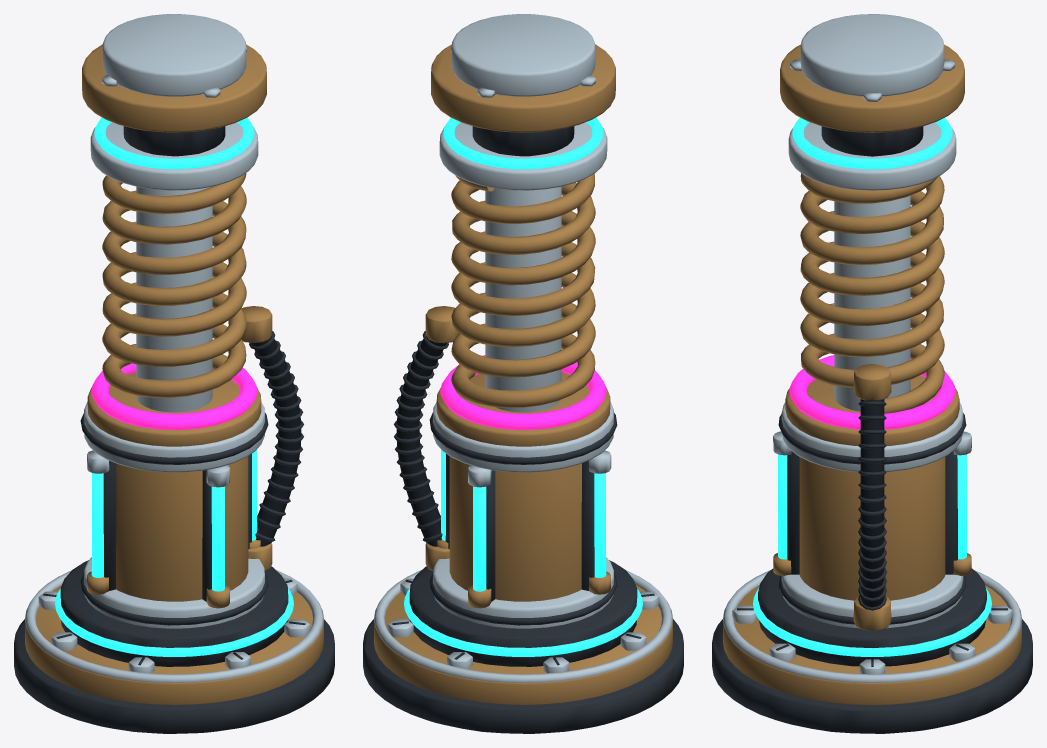
The model's file is mechanism.glb.
3 renders of one model, left to right at view 1: azimuth 30°, elevation 25°; view 2: azimuth 150°, elevation 25°; view 3: azimuth 270°, elevation 25°, orthographic.
Parts seen in each view (by area): view 1: Brushed champagne bronze, Polished tool steel, Black anodised housing, Cyan phosphor, Magenta insulator, Hydraulic rubber; view 2: Brushed champagne bronze, Polished tool steel, Black anodised housing, Cyan phosphor, Magenta insulator, Hydraulic rubber; view 3: Brushed champagne bronze, Polished tool steel, Black anodised housing, Cyan phosphor, Hydraulic rubber, Magenta insulator.
Part boxes in pixels (x1=…): Brushed champagne bronze: x1=25, y1=44, x2=323, y2=704; Polished tool steel: x1=25, y1=14, x2=323, y2=682; Black anodised housing: x1=14, y1=126, x2=334, y2=733; Cyan phosphor: x1=55, y1=117, x2=293, y2=656; Magenta insulator: x1=91, y1=363, x2=257, y2=429; Hydraulic rubber: x1=251, y1=335, x2=301, y2=546; Brushed champagne bronze: x1=374, y1=44, x2=672, y2=704; Polished tool steel: x1=374, y1=14, x2=672, y2=682; Black anodised housing: x1=363, y1=126, x2=683, y2=733; Cyan phosphor: x1=404, y1=117, x2=642, y2=656; Magenta insulator: x1=440, y1=355, x2=606, y2=429; Hydraulic rubber: x1=396, y1=335, x2=446, y2=546; Brushed champagne bronze: x1=723, y1=44, x2=1021, y2=705; Polished tool steel: x1=723, y1=14, x2=1021, y2=682; Black anodised housing: x1=712, y1=126, x2=1032, y2=733; Cyan phosphor: x1=753, y1=117, x2=991, y2=656; Hydraulic rubber: x1=860, y1=399, x2=884, y2=610; Magenta insulator: x1=789, y1=355, x2=955, y2=429.
Bounding box in the file's own units: 0.5127 × 1.1 × 0.5127.
